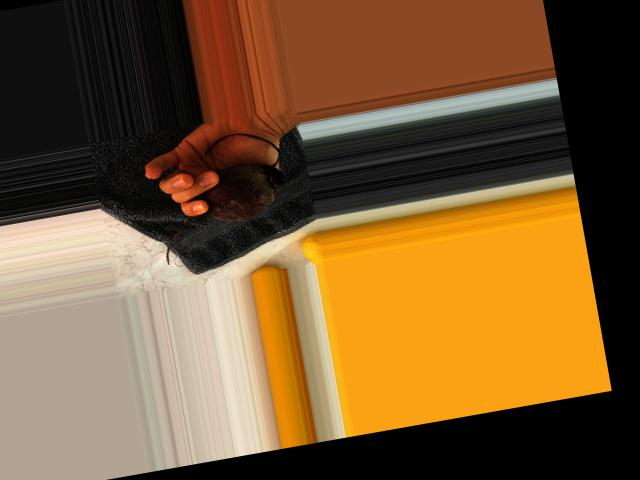beet: (147, 126, 294, 264)
